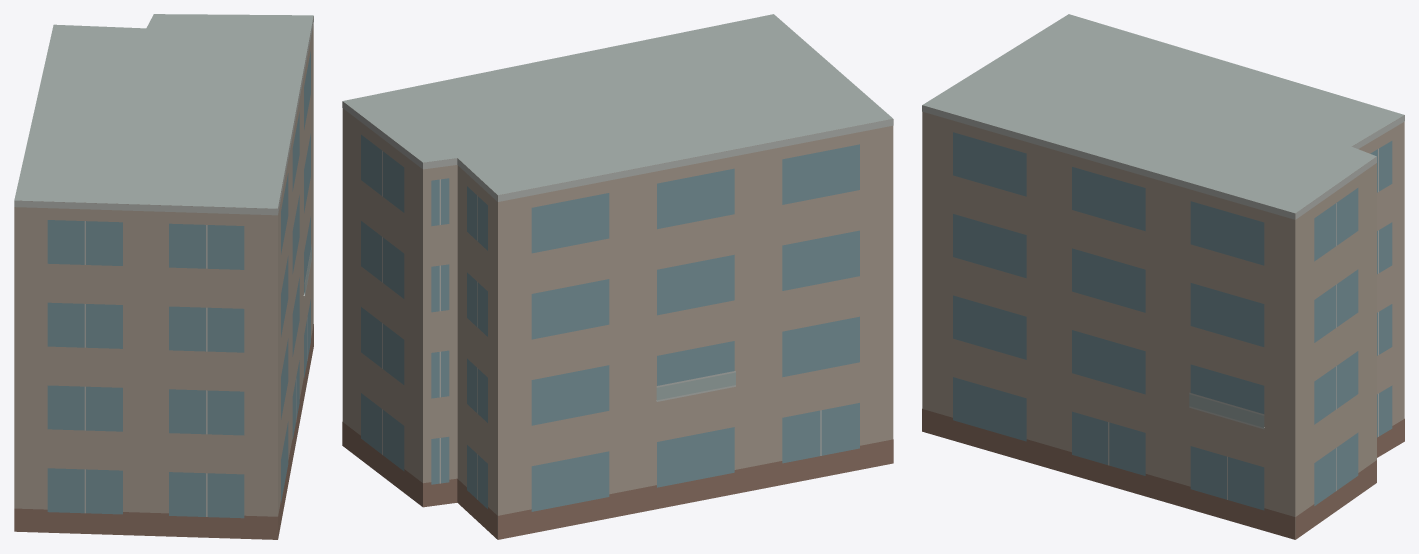
Rendered from survey-upis-32511548.glb.
The picture shows the model from 3 angles, left to right: view 1: azimuth 30°, elevation 25°; view 2: azimuth 150°, elevation 25°; view 3: azimuth 270°, elevation 25°; orthographic projection. The views are drawn at different scales.
Visible parts, largest first — view 1: survey-upis-32511548.tmp; view 2: survey-upis-32511548.tmp; view 3: survey-upis-32511548.tmp.
Part boxes in pixels (<box>): survey-upis-32511548.tmp: <box>14,14,313,539</box>; survey-upis-32511548.tmp: <box>342,14,893,539</box>; survey-upis-32511548.tmp: <box>922,14,1404,539</box>.
Bounding box in the file's own units: 16.12 × 12.3 × 16.49.
